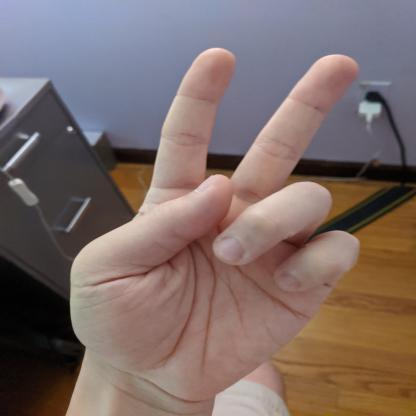K: (55, 41, 372, 403)
